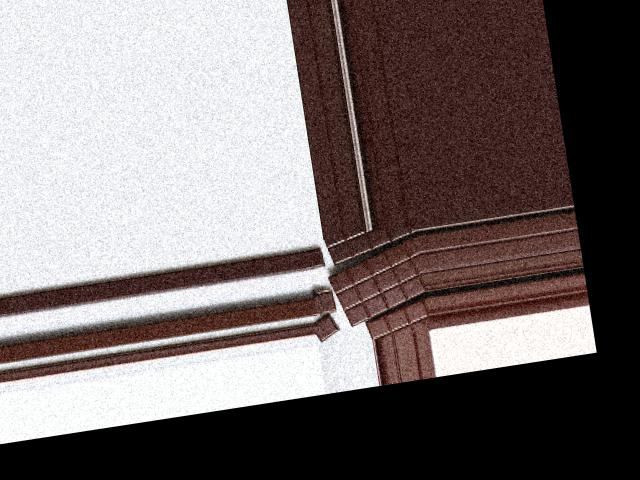chocolate: (325, 238, 430, 330)
